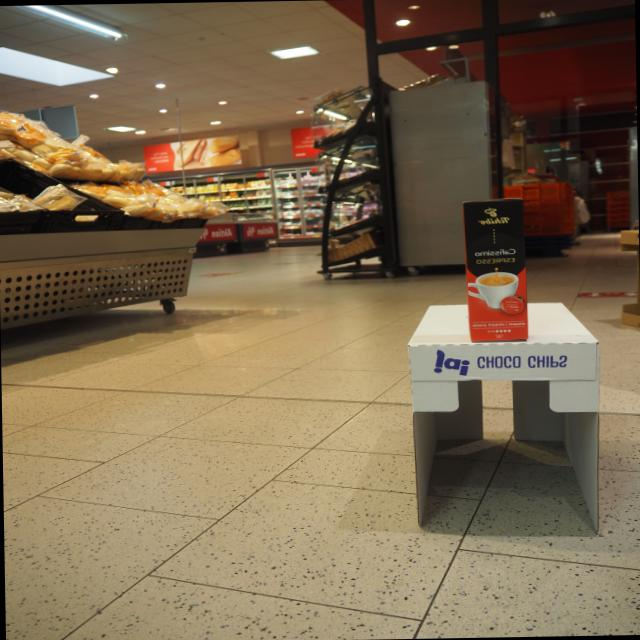Simo Es Elegant: (461, 196, 529, 343)
